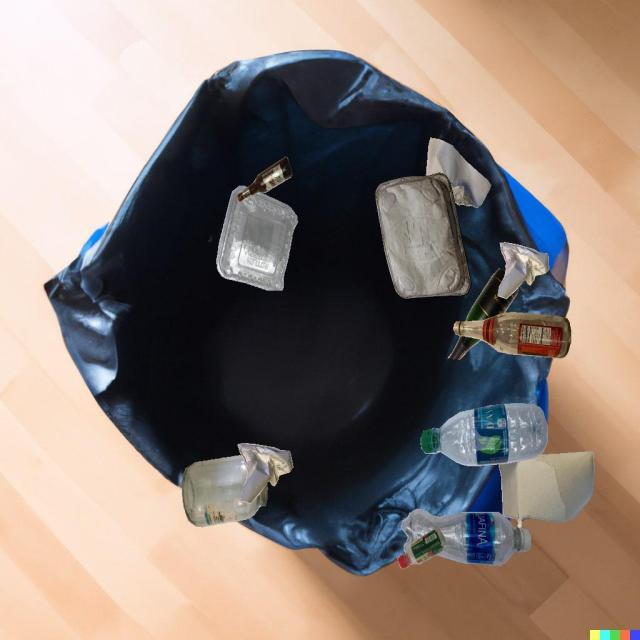cardboard: (499, 451, 594, 528)
glass: (182, 455, 268, 527), (453, 312, 571, 358), (465, 268, 518, 321), (237, 156, 292, 201), (448, 335, 481, 360)
metal: (375, 172, 471, 300)
paper: (426, 138, 491, 208), (238, 443, 293, 503), (497, 242, 549, 299)
plastic: (216, 186, 298, 290), (421, 403, 548, 466), (401, 509, 531, 566), (398, 528, 446, 569)
